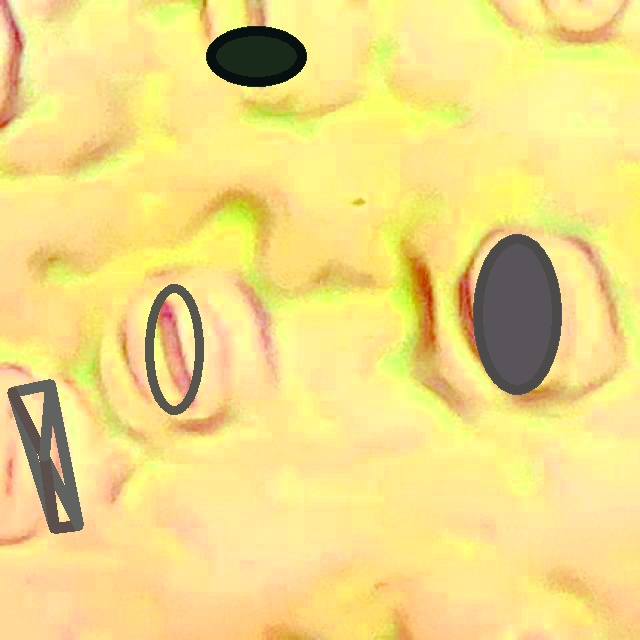close: (7, 379, 82, 532)
open: (473, 234, 561, 393), (144, 284, 205, 415), (206, 26, 306, 86)
